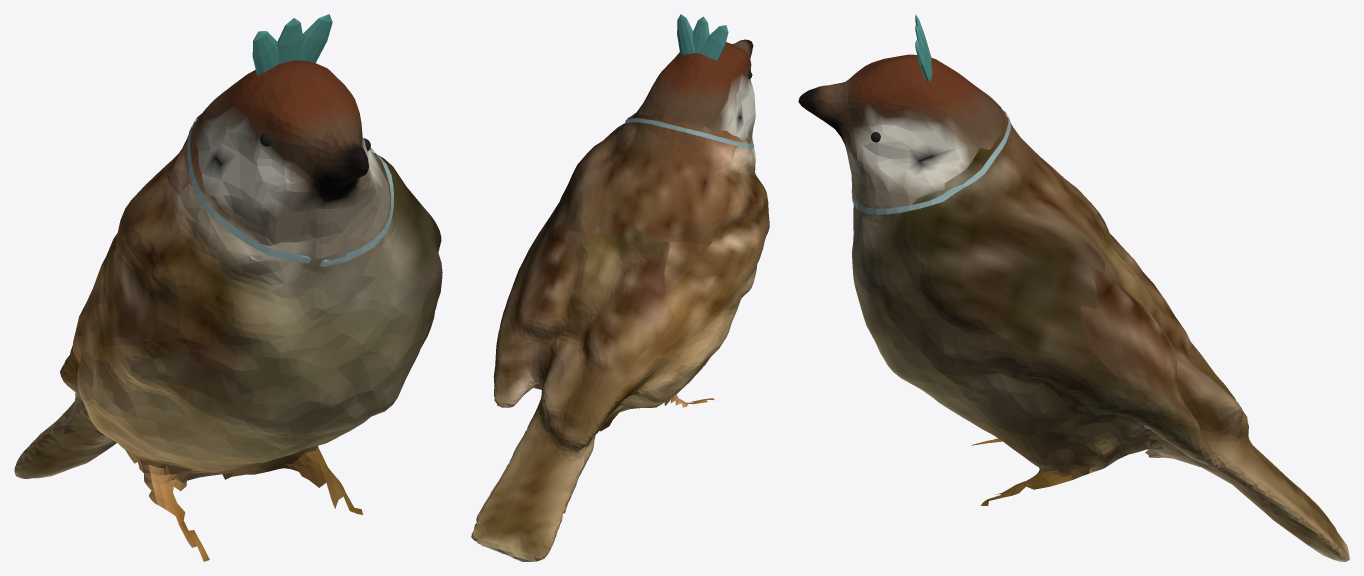
File: suzume.glb
3 renders of one model, left to right at view 1: azimuth 30°, elevation 25°; view 2: azimuth 150°, elevation 25°; view 3: azimuth 270°, elevation 25°, orthographic. The views are drawn at different scales.
Visible parts, largest first — view 1: suzume02, tuft0, mark; view 2: suzume02, tuft0, mark; view 3: suzume02, mark.
Boxes of the visible parts, x1,y1,x2,y2 form: suzume02: (14, 60, 442, 561); tuft0: (252, 14, 332, 75); mark: (187, 113, 393, 266); suzume02: (471, 39, 769, 561); tuft0: (677, 14, 728, 60); mark: (625, 117, 754, 148); suzume02: (798, 54, 1349, 561); mark: (851, 110, 1010, 214).
Size of the model in its own units: 0.1646 by 0.343 by 0.3292.
Materials: 5 (1 with a texture image).
